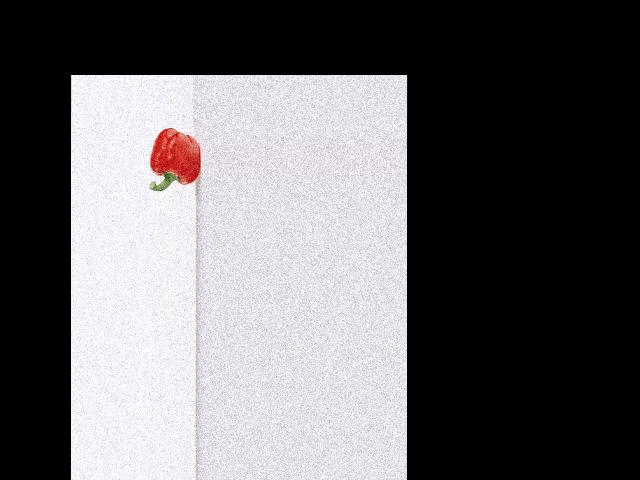bell_pepper: (147, 125, 202, 197)
